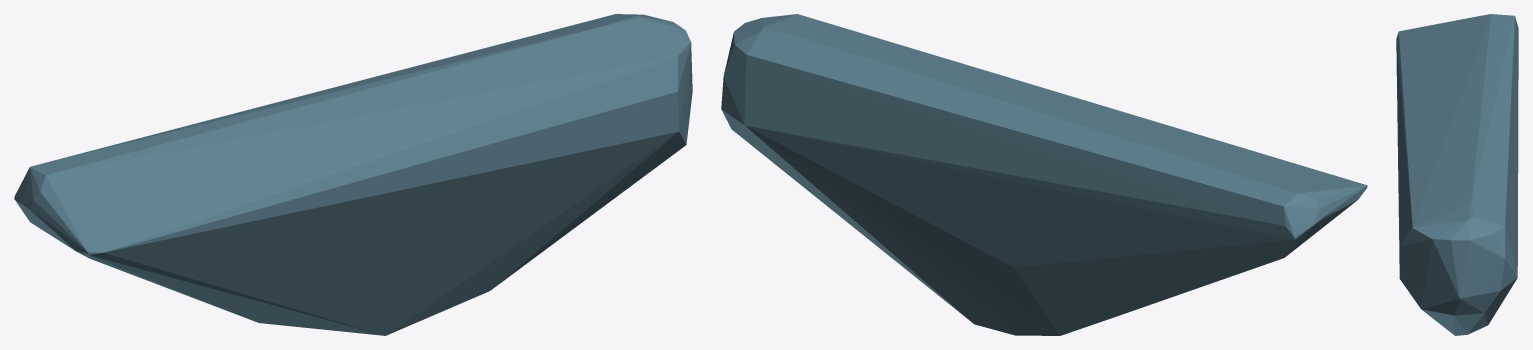
The model's file is suspension_control_arm_link_left_a01.glb.
3 views of the same model, side by side, from view 1: azimuth 30°, elevation 25°; view 2: azimuth 150°, elevation 25°; view 3: azimuth 270°, elevation 25° (orthographic). The views are drawn at different scales.
Visible parts, largest first — view 1: geometry_0; view 2: geometry_0; view 3: geometry_0.
Part boxes in pixels (left/top/right/bottom): geometry_0: left=14, top=14, right=692, bottom=335; geometry_0: left=721, top=14, right=1367, bottom=335; geometry_0: left=1396, top=14, right=1518, bottom=335.
Size of the model in its own units: 0.4797 by 0.1772 by 0.0994.
